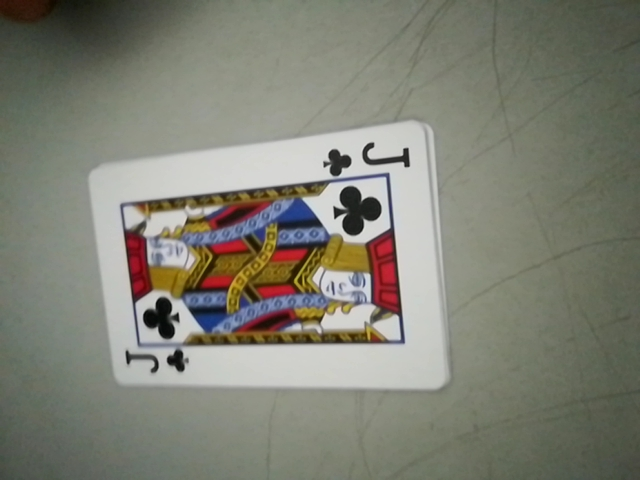mh j: (321, 136, 414, 179), (118, 342, 189, 383)
